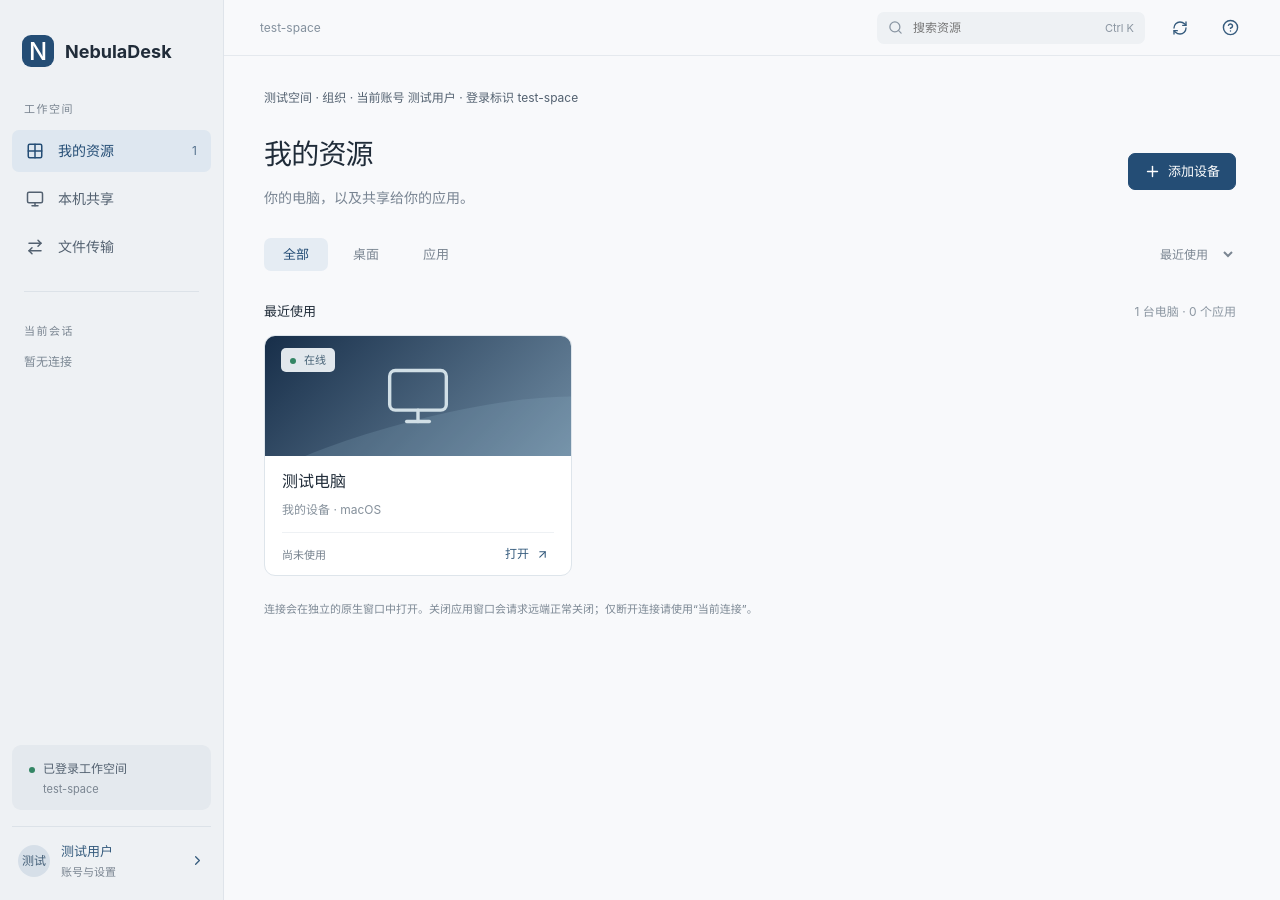
Scenario: organization directory management › preserves legacy organization OWNER as an administrator superset
The image size is (1280, 900).
Click the button "测试 测试用户 账号与设置": click(112, 855) left=12, top=826, right=211, bottom=885
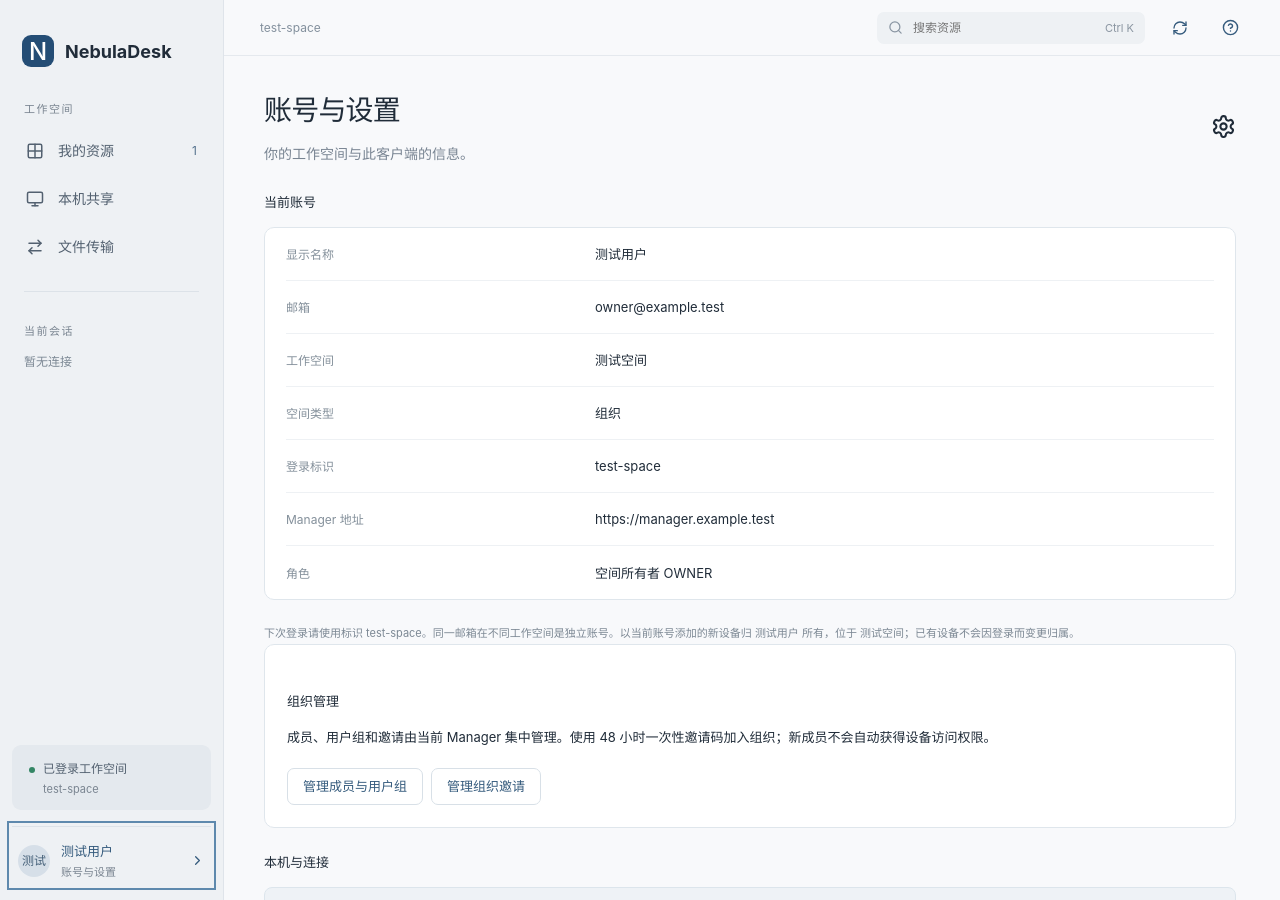
Check: the text "空间所有者 OWNER" is shown, box left=595, top=565, right=712, bottom=581
Check: the button "管理组织邀请" is shown, box left=431, top=768, right=541, bottom=805
Click the button "管理成员与用户组": click(355, 786) left=287, top=768, right=423, bottom=805
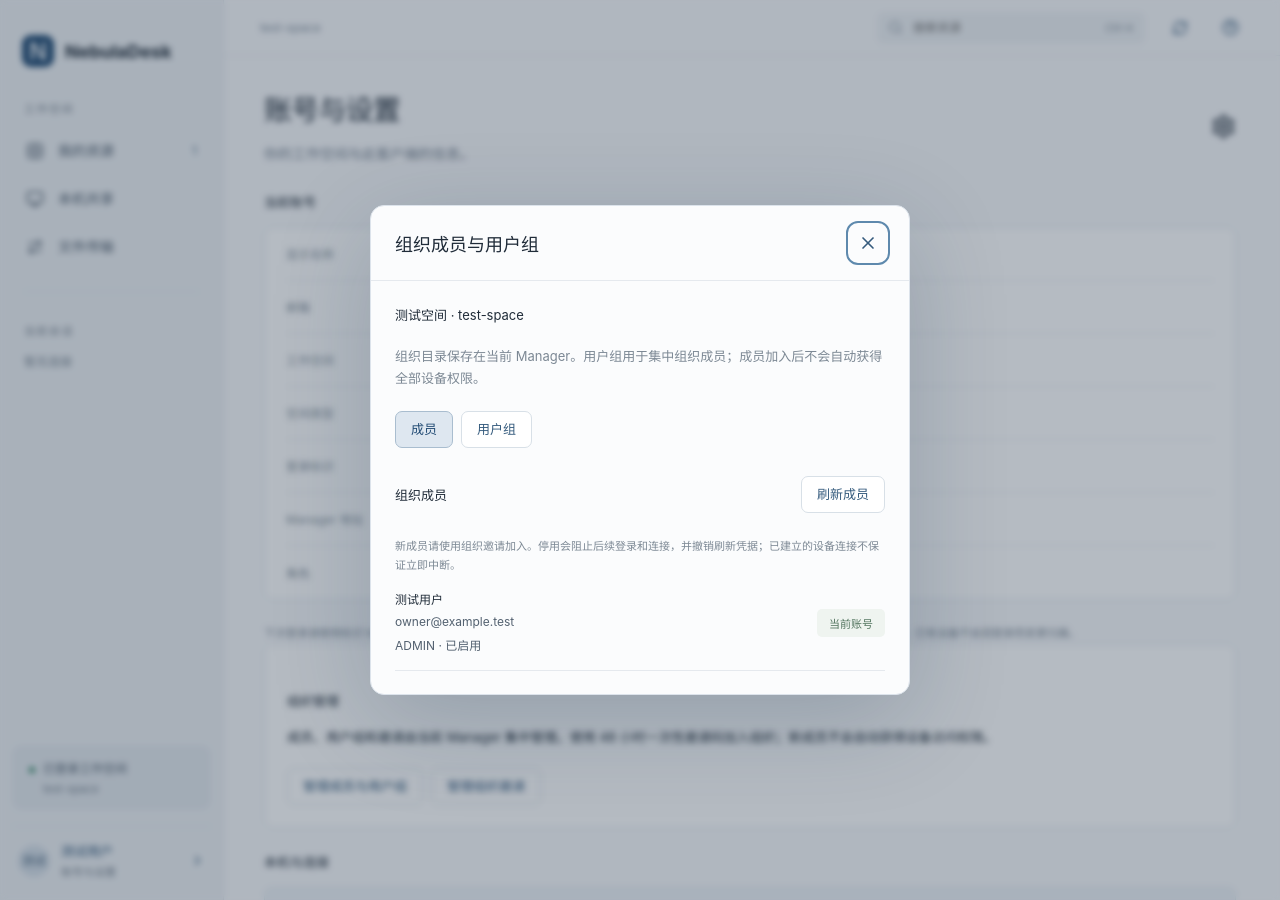
Check: the text "owner@example.test" is shown, box left=395, top=614, right=514, bottom=629
